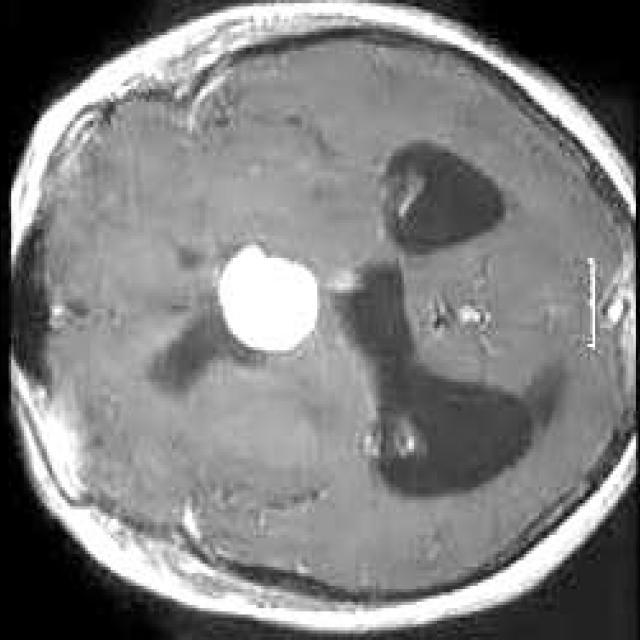tumor: (214, 242, 319, 353)
